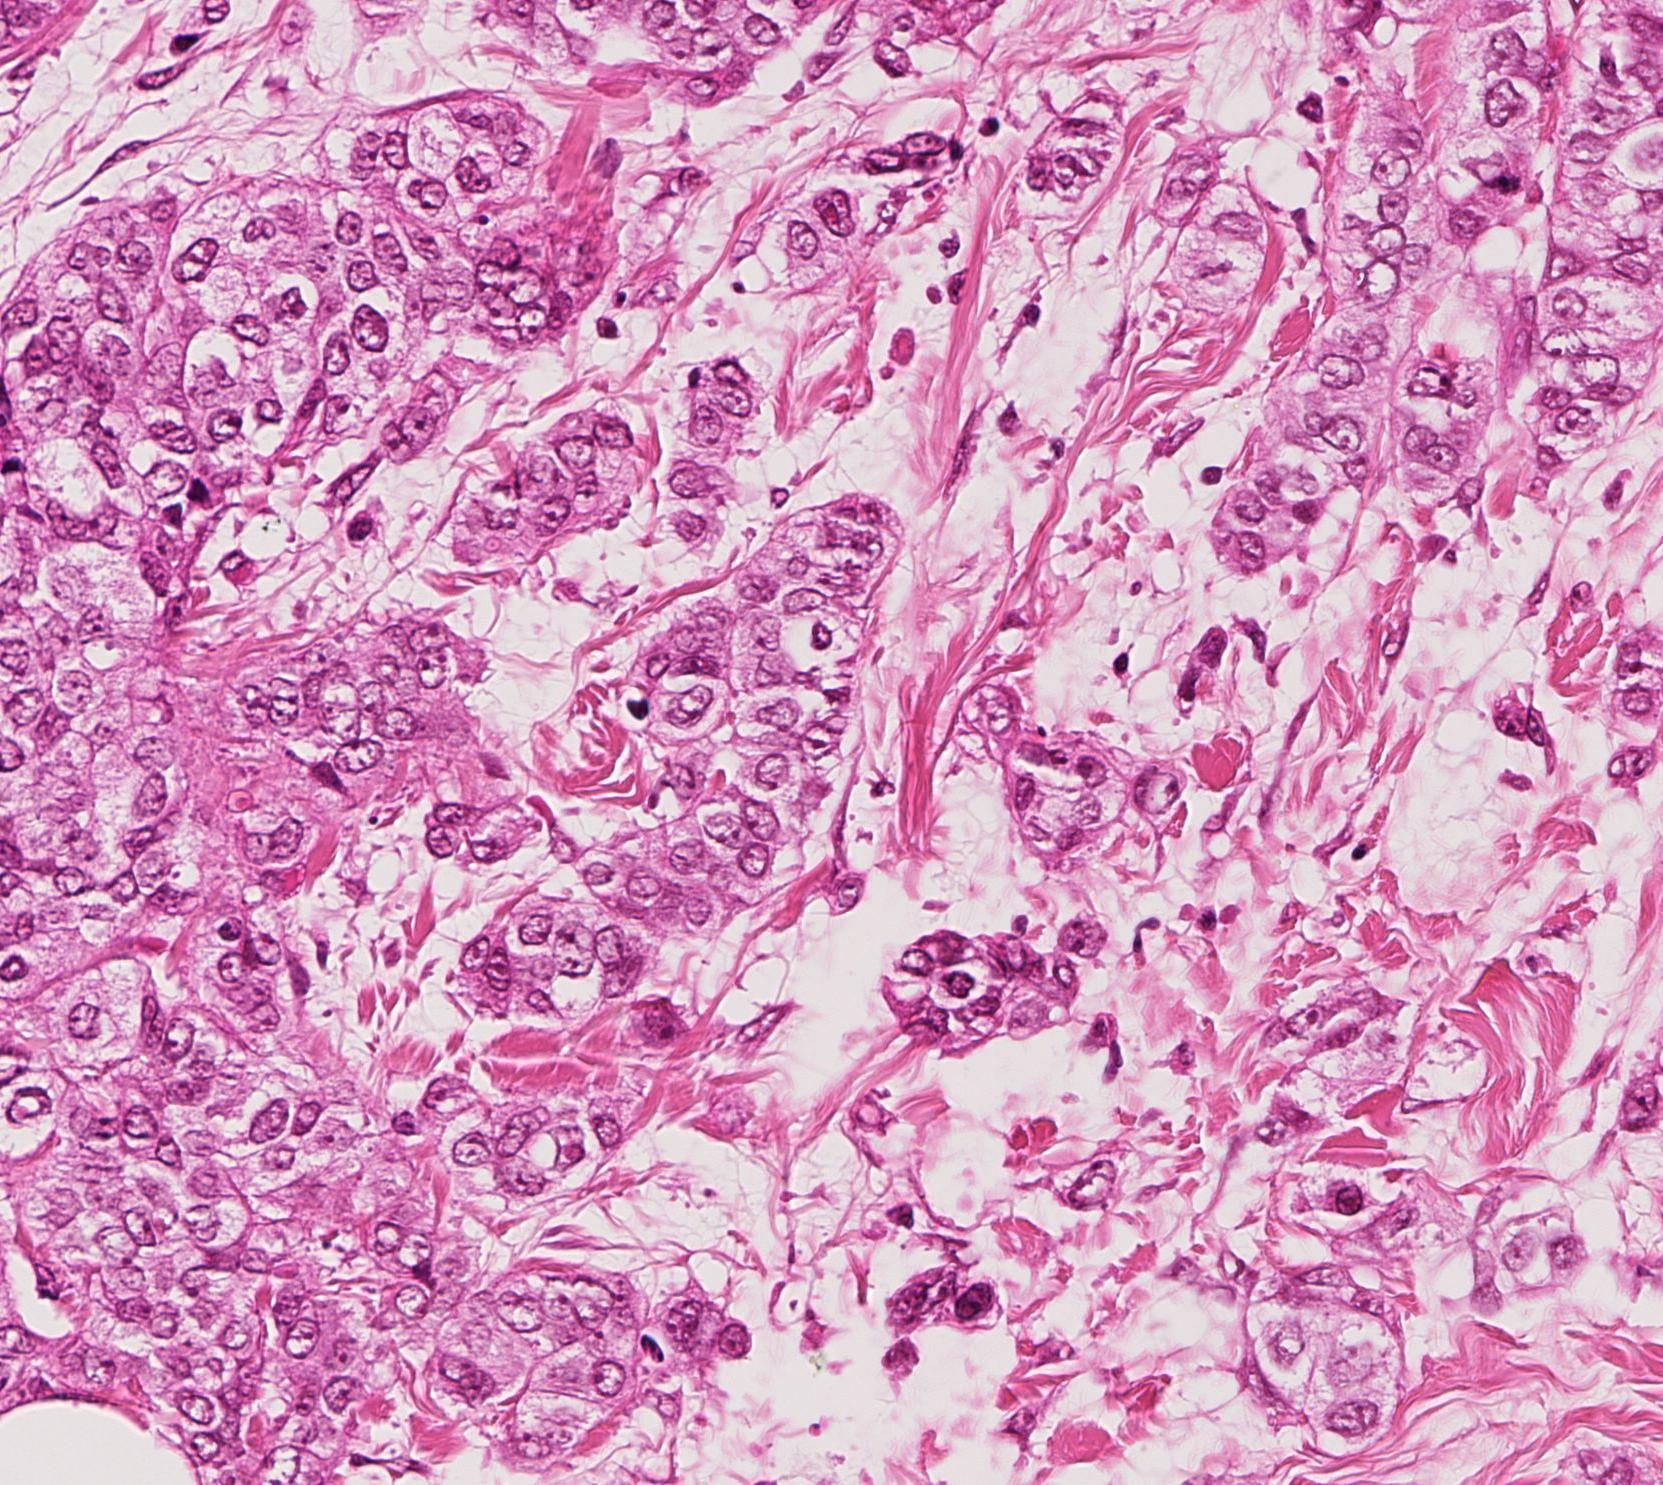mitosis: (1461, 163, 1521, 224)
